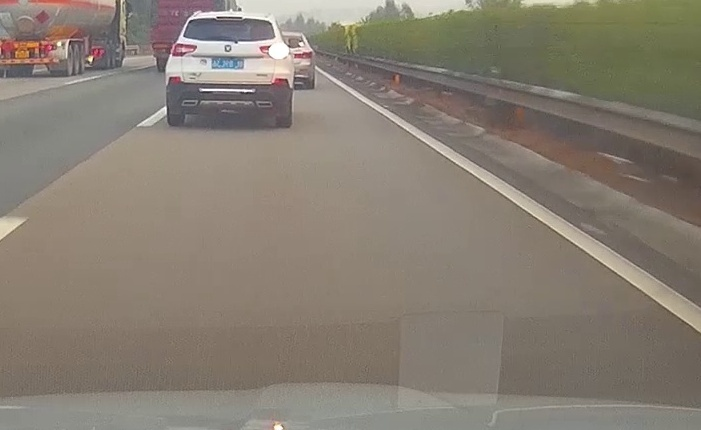L_light: (170, 43, 197, 57)
R_light: (259, 45, 288, 58)
T_light: (216, 16, 243, 21)
day-right: (164, 12, 291, 127)
